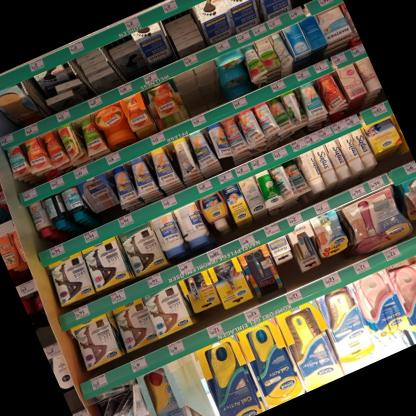empty_space: (170, 64, 210, 114), (194, 57, 223, 104)
